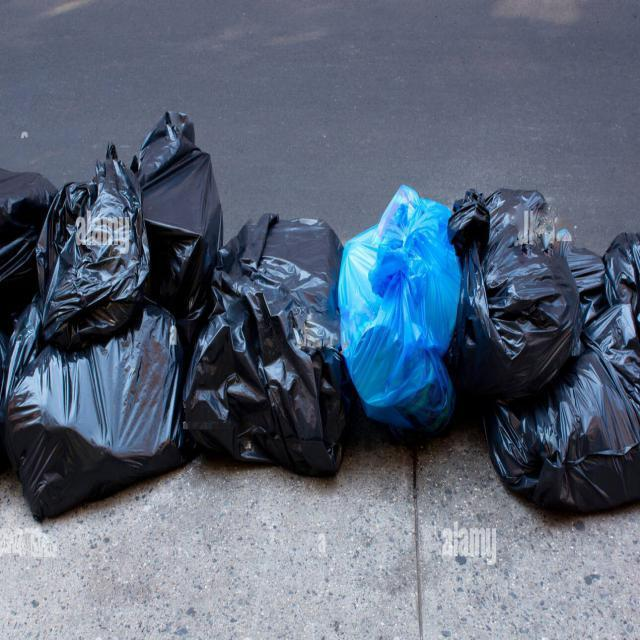Trashbag: (10, 298, 191, 526), (206, 210, 352, 478), (455, 189, 580, 397), (489, 374, 639, 530), (42, 159, 154, 342), (140, 120, 228, 314), (569, 232, 640, 360)
